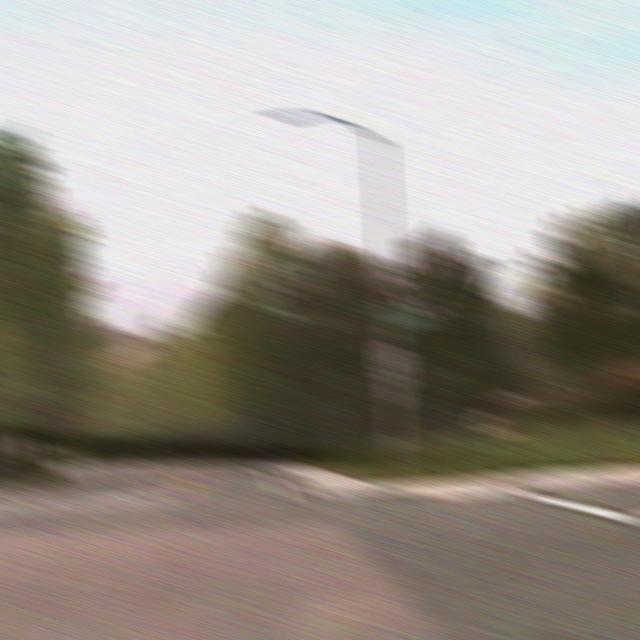speedLimit35: (376, 342, 410, 383)
